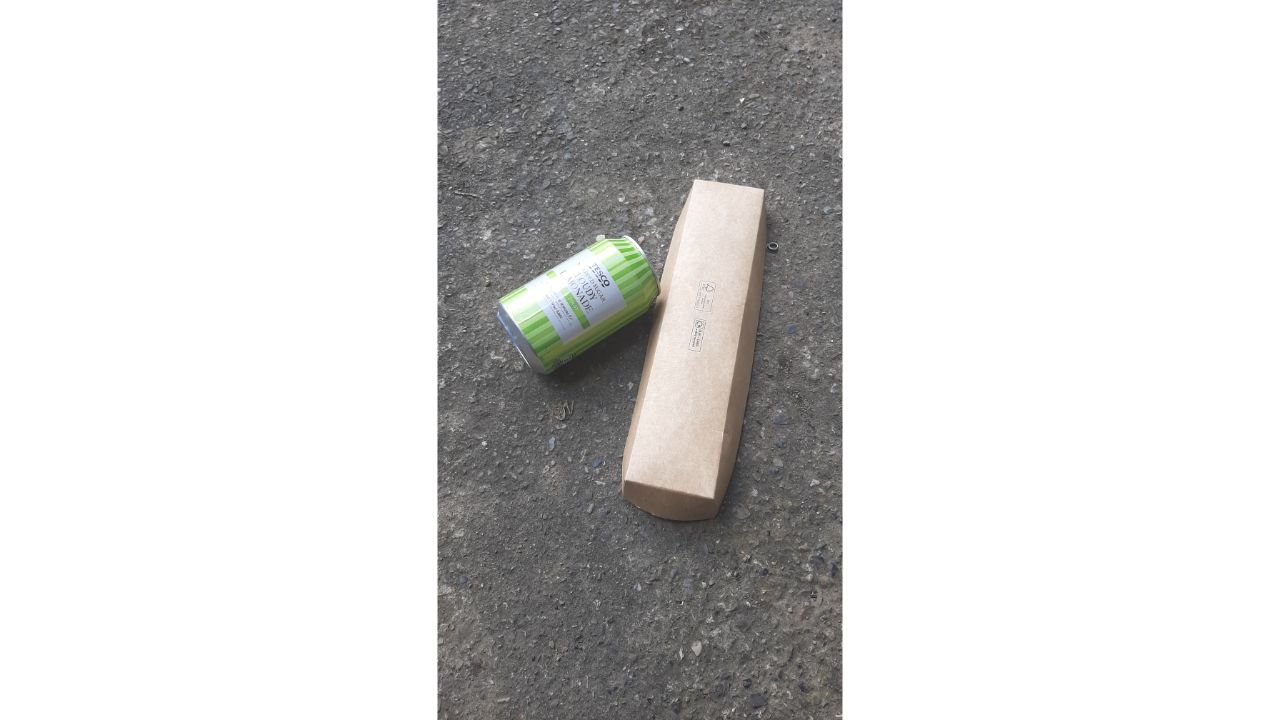Can: (492, 230, 665, 382)
